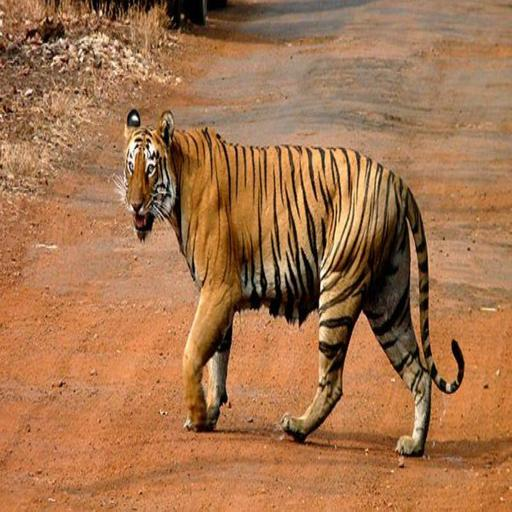Tiger: (107, 110, 475, 465)
